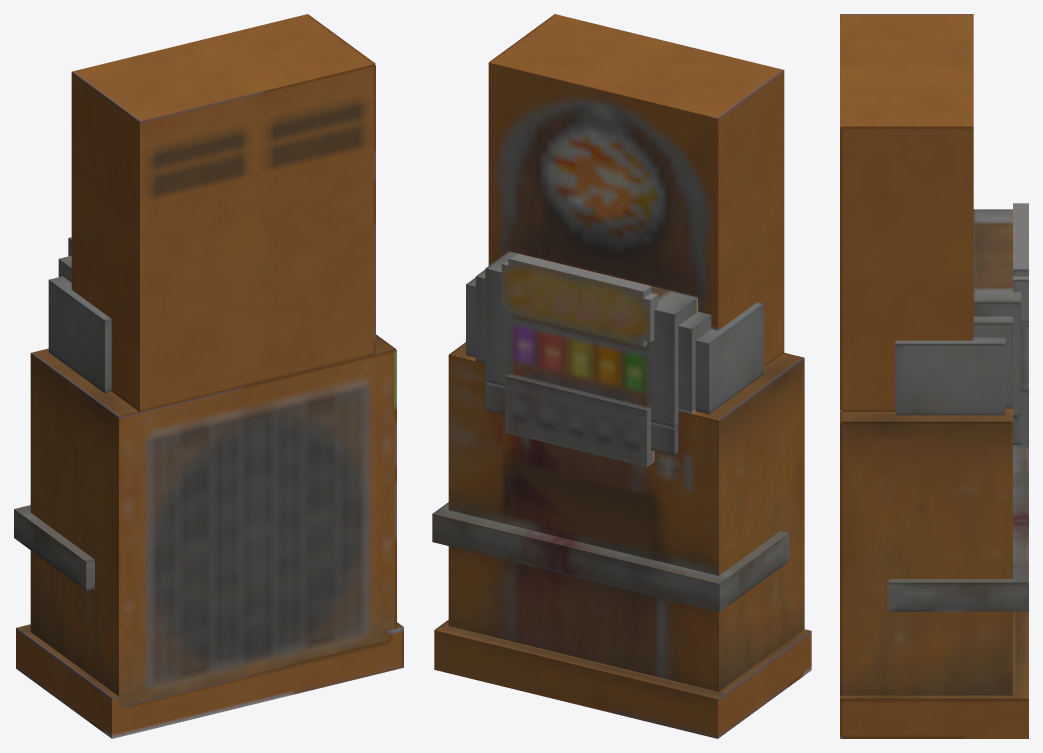
3 renders of one model, left to right at view 1: azimuth 30°, elevation 25°; view 2: azimuth 150°, elevation 25°; view 3: azimuth 270°, elevation 25°, orthographic. The views are drawn at different scales.
Parts seen in each view (by area): view 1: meshes_0-4, meshes_2-4, meshes_0-1, meshes_2-1, meshes_2-2, meshes_1-4, meshes_7-1, meshes_1-1, meshes_10-1, meshes_0-2, meshes_1-2, meshes_10-2; view 2: meshes_0-5, meshes_2-5, meshes_0-1, meshes_2-1, meshes_2-2, meshes_3-5, meshes_1-5, meshes_10-5, meshes_8-5, meshes_5-5, meshes_4-5, meshes_7-1 (+12 smaller); view 3: meshes_0-0, meshes_2-0, meshes_2-2, meshes_7-0, meshes_1-0, meshes_10-0, meshes_3-2, meshes_10-2, meshes_1-2, meshes_3-0, meshes_0-2, meshes_6-0 (+5 smaller).
Part boxes in pixels (x1,y1,x2,y2): meshes_0-4: (119,349,396,707); meshes_2-4: (140,64,375,412); meshes_0-1: (30,353,118,696); meshes_2-1: (71,72,139,411); meshes_2-2: (72,14,375,121); meshes_1-4: (112,627,403,738); meshes_7-1: (48,280,104,393); meshes_1-1: (16,628,111,738); meshes_10-1: (14,509,86,590); meshes_0-2: (31,334,395,417); meshes_1-2: (16,622,403,698); meshes_10-2: (14,505,94,561); meshes_0-5: (448,355,718,691); meshes_2-5: (488,62,718,330); meshes_0-1: (719,358,804,691); meshes_2-1: (718,70,784,367); meshes_2-2: (489,14,783,118); meshes_3-5: (485,268,674,427); meshes_1-5: (434,630,717,738); meshes_10-5: (432,514,719,611); meshes_8-5: (505,376,646,466); meshes_5-5: (508,259,643,348); meshes_4-5: (501,264,650,342); meshes_7-1: (709,304,763,413); meshes_0-0: (840,422,1012,702); meshes_2-0: (840,127,973,411); meshes_2-2: (840,14,973,126); meshes_7-0: (895,344,1005,415); meshes_1-0: (840,699,1028,738); meshes_10-0: (887,583,1028,611); meshes_3-2: (973,209,1020,302); meshes_10-2: (887,447,1028,582); meshes_1-2: (840,611,1028,698); meshes_3-0: (973,302,1020,416); meshes_0-2: (840,408,1012,421); meshes_6-0: (973,323,1012,408).
Bounding box in the file's own units: 21.25 × 42 × 12.
Materials: 1 (1 with a texture image).
